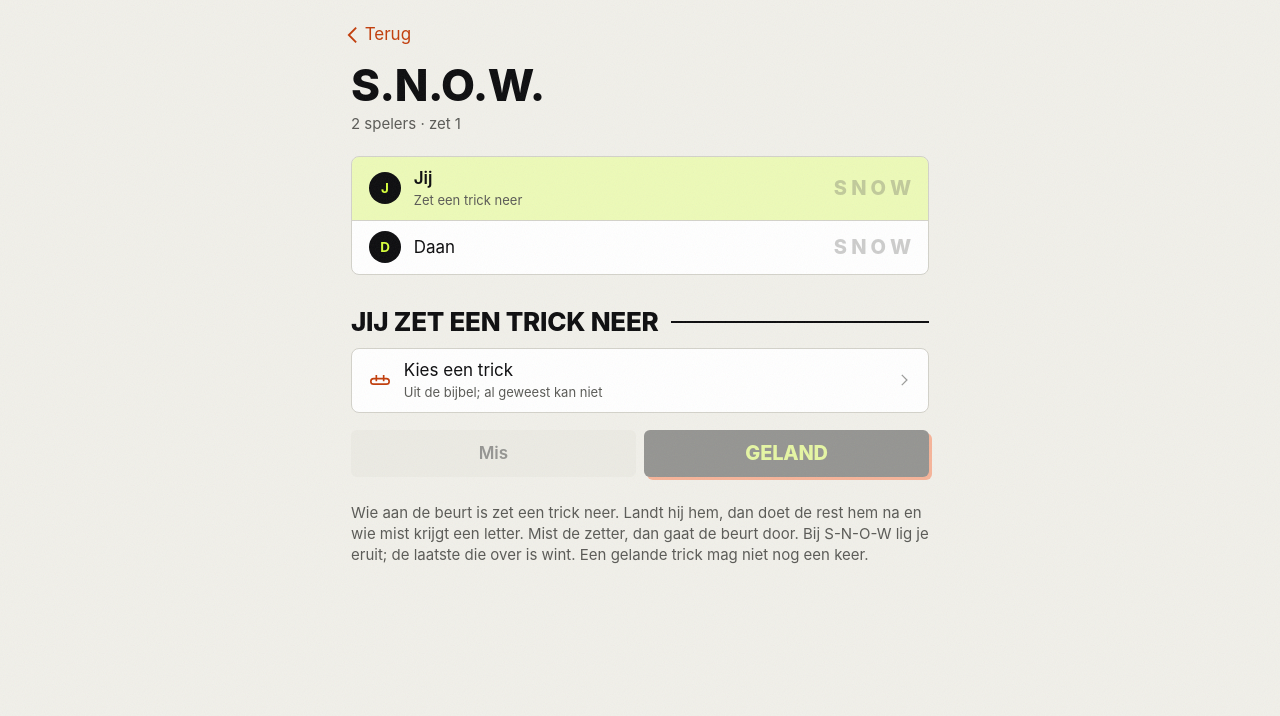
Test: een potje spelen › jij zet een trick neer, landt hem, en dan is Daan aan de beurt om hem na te doen
Expected: the heading "Jij zet een trick neer" is shown, [351,309,658,335]
Expected: the button "Geland" is disabled, [644,430,929,477]
Click the button "Kies een trick Uit de bijbel; al geweest kan niet".
click(458, 370)  # box [352,349,928,412]
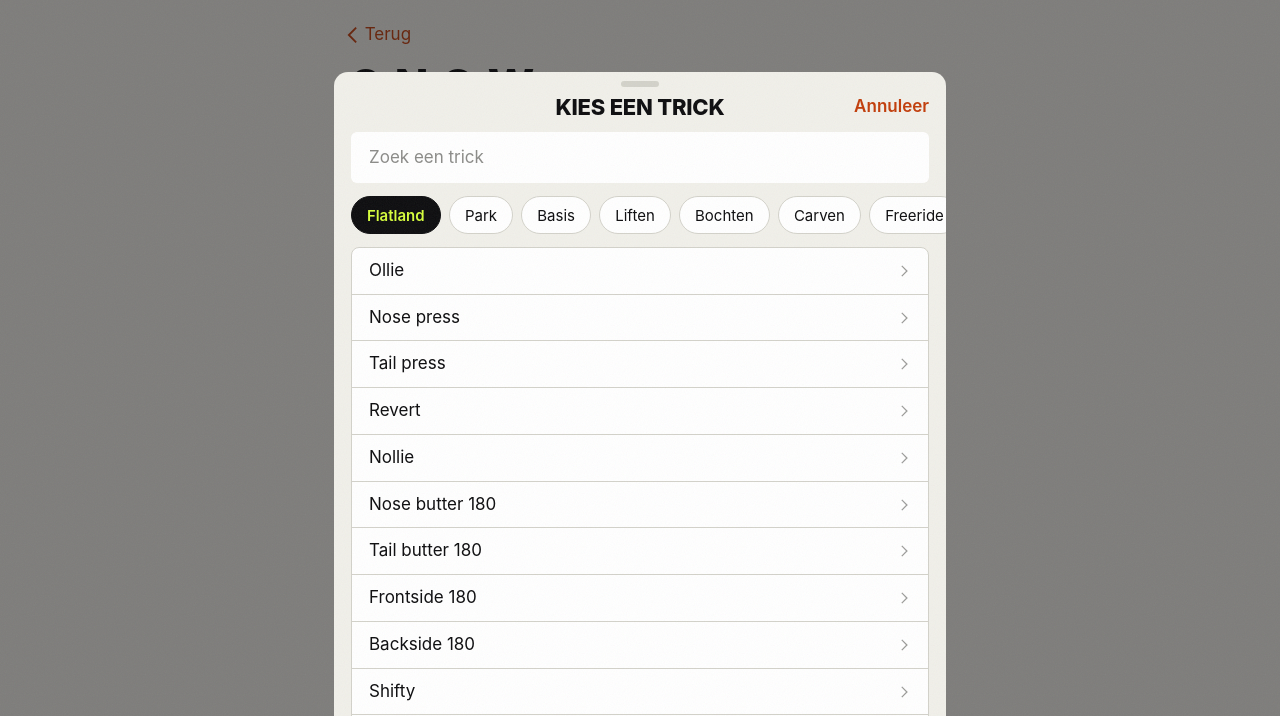
Type "oll" into the field labelled "Zoek een trick".
click(640, 158); type("oll")  # box [351,132,929,183]
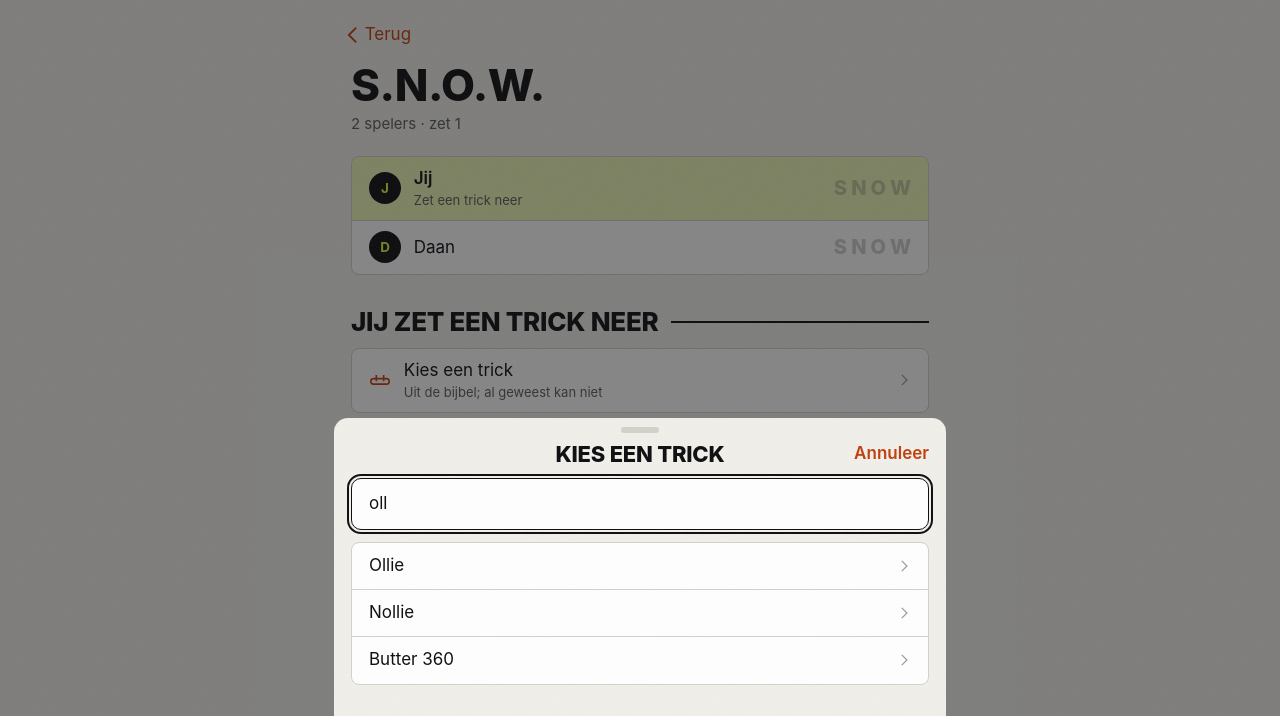
Click the button "Ollie".
click(387, 565)  # box [352,543,928,590]
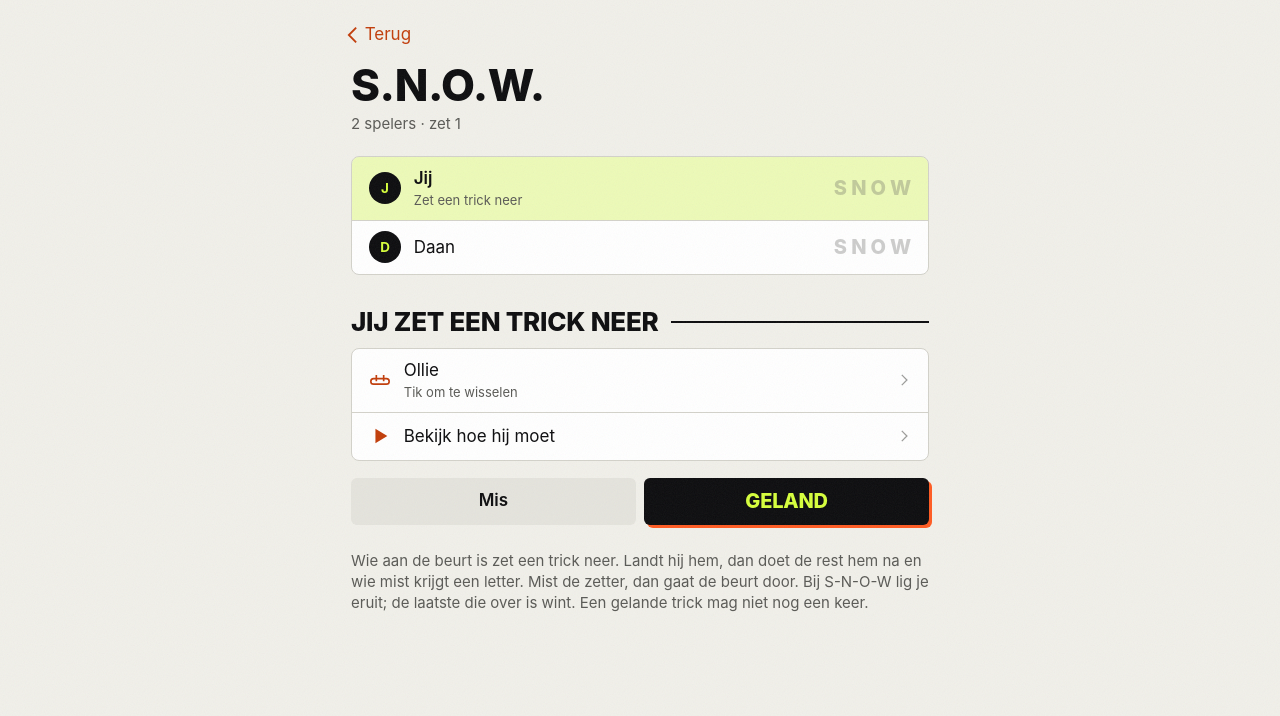
Click the button "Geland".
click(787, 501)  # box [644,478,929,525]
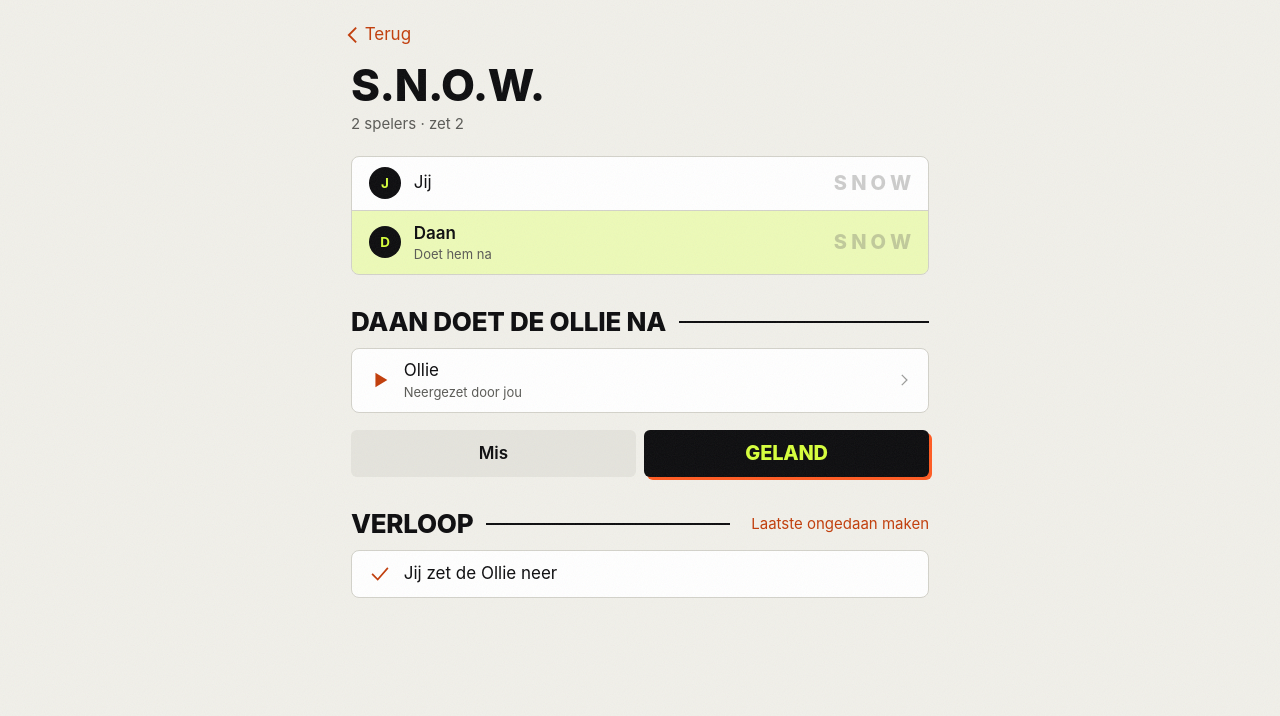
Result: the heading "Daan doet de Ollie na" is shown at [351,309,666,335]
Result: the text "Jij zet de Ollie neer" is shown at [404,563,557,583]
